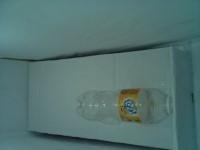bottle: (77, 0, 175, 15)
